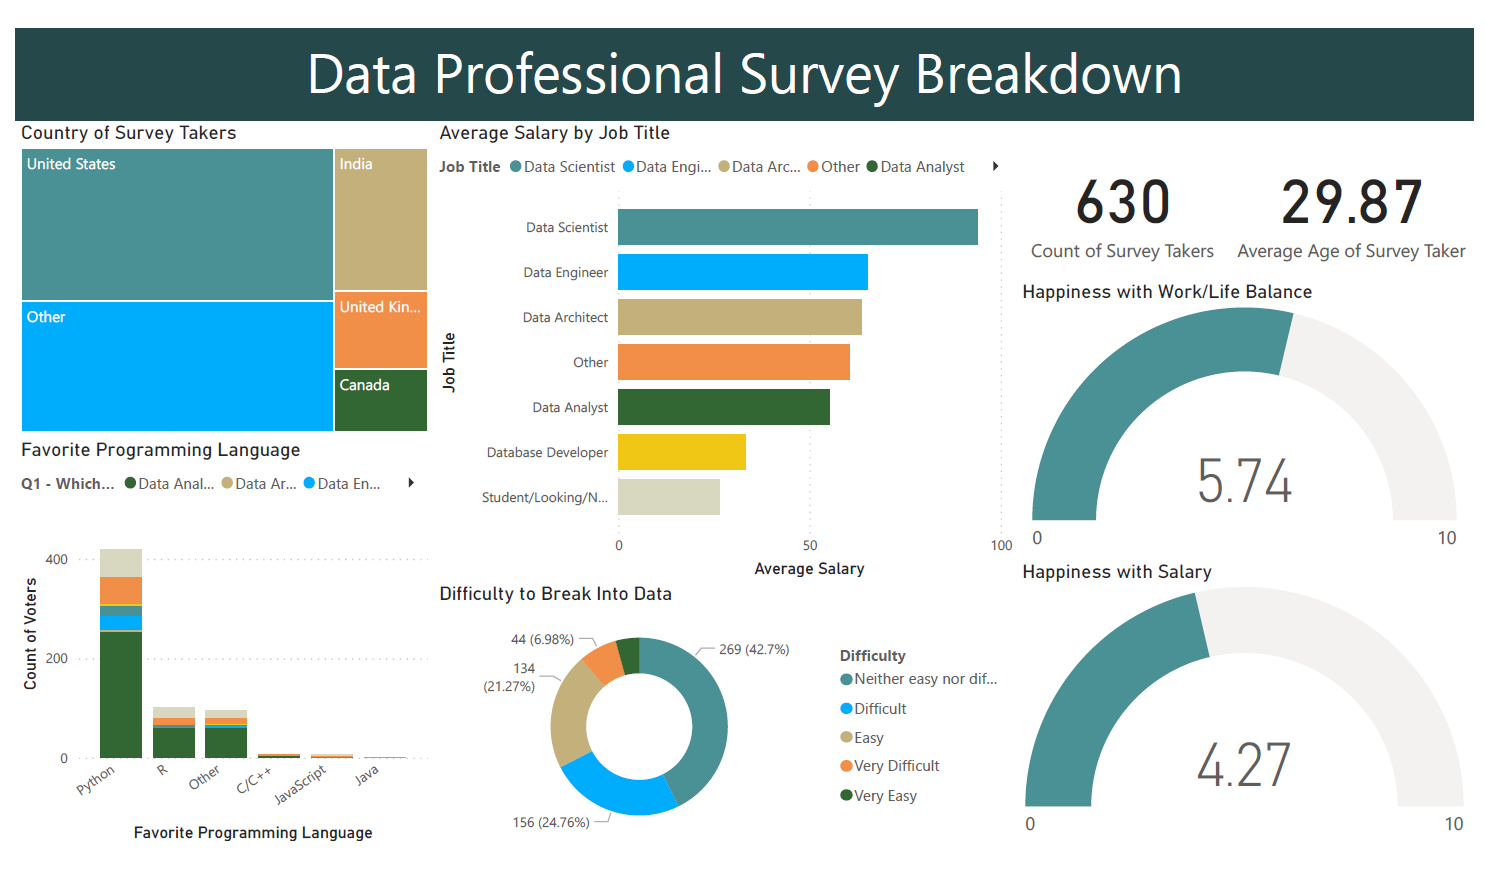

Layout of this report page (visuals, bound fields, positions):
{"tool":"powerbi","page":{"name":"Page 1","canvas":[1280,720],"ordinal":0},"visuals":[{"type":"textbox","box":[0,0,1280,81.6],"z":0},{"type":"card","fields":{"Values":["CountNonNull(Data Professional Survey.Unique ID)"]},"box":[879.9,81.7,185.8,149],"z":1000},{"type":"card","fields":{"Values":["Avg(Data Professional Survey.Q10 - Current Age)"]},"box":[1065.6,81.7,214.4,149],"z":2000},{"type":"barChart","title":"Average Salary by Job Title","fields":{"Category":["Data Professional Survey.Q1 - Which Title Best Fits your Current Role?.1"],"Y":["Avg(Data Professional Survey.Average Salary)"],"Series":["Data Professional Survey.Q1 - Which Title Best Fits your Current Role?.1"]},"box":[367.3,81.6,512.7,404.9],"z":3000},{"type":"columnChart","title":"Favorite Programming Language","fields":{"Category":["Data Professional Survey.Q5 - Favorite Programming Language.1"],"Y":["CountNonNull(Data Professional Survey.Unique ID)"],"Series":["Data Professional Survey.Q1 - Which Title Best Fits your Current Role?.1"]},"box":[0,359.3,367.5,359.3],"z":4000},{"type":"treemap","title":"Country of Survey Takers","fields":{"Group":["Data Professional Survey.Q11 - Which Country do you live in?.1"],"Values":["CountNonNull(Data Professional Survey.Q11 - Which Country do you live in?.1)"]},"box":[0,81.6,367.3,277.6],"z":5000},{"type":"gauge","title":"Happiness with Work/Life Balance","fields":{"Y":["Avg(Data Professional Survey.Q6 - How Happy are you in your Current Position with the following? (Work/Life Balance))"],"MinValue":["Min(Data Professional Survey.Q6 - How Happy are you in your Current Position with the following? (Work/Life Balance))1"],"MaxValue":["Max(Data Professional Survey.Q6 - How Happy are you in your Current Position with the following? (Work/Life Balance))2"]},"box":[879.9,220.5,400.1,247],"z":6000},{"type":"gauge","title":"Happiness with Salary","fields":{"Y":["Avg(Data Professional Survey.Q6 - How Happy are you in your Current Position with the following? (Salary))"],"MinValue":["Min(Data Professional Survey.Q6 - How Happy are you in your Current Position with the following? (Salary))1"],"MaxValue":["Max(Data Professional Survey.Q6 - How Happy are you in your Current Position with the following? (Salary))2"]},"box":[880,466.9,400,253.1],"z":7000},{"type":"donutChart","title":"Difficulty to Break Into Data","fields":{"Category":["Data Professional Survey.Q7 - How difficult was it for you to break into Data?"],"Y":["CountNonNull(Data Professional Survey.Q7 - How difficult was it for you to break into Data?)"]},"box":[367.5,485.9,512.4,234.8],"z":8000}]}

Visuals, with their boxes in screenshot pixels (x1, y1, x2, y2):
textbox: region(19, 23, 1485, 117)
card - CountNonNull(Data Professional Survey.Unique ID): region(1027, 117, 1239, 287)
card - Avg(Data Professional Survey.Q10 - Current Age): region(1239, 117, 1485, 287)
"Average Salary by Job Title" barChart: region(440, 117, 1027, 580)
"Favorite Programming Language" columnChart: region(19, 435, 440, 846)
"Country of Survey Takers" treemap: region(19, 117, 440, 434)
"Happiness with Work/Life Balance" gauge: region(1027, 276, 1485, 558)
"Happiness with Salary" gauge: region(1027, 558, 1485, 848)
"Difficulty to Break Into Data" donutChart: region(440, 580, 1027, 848)
